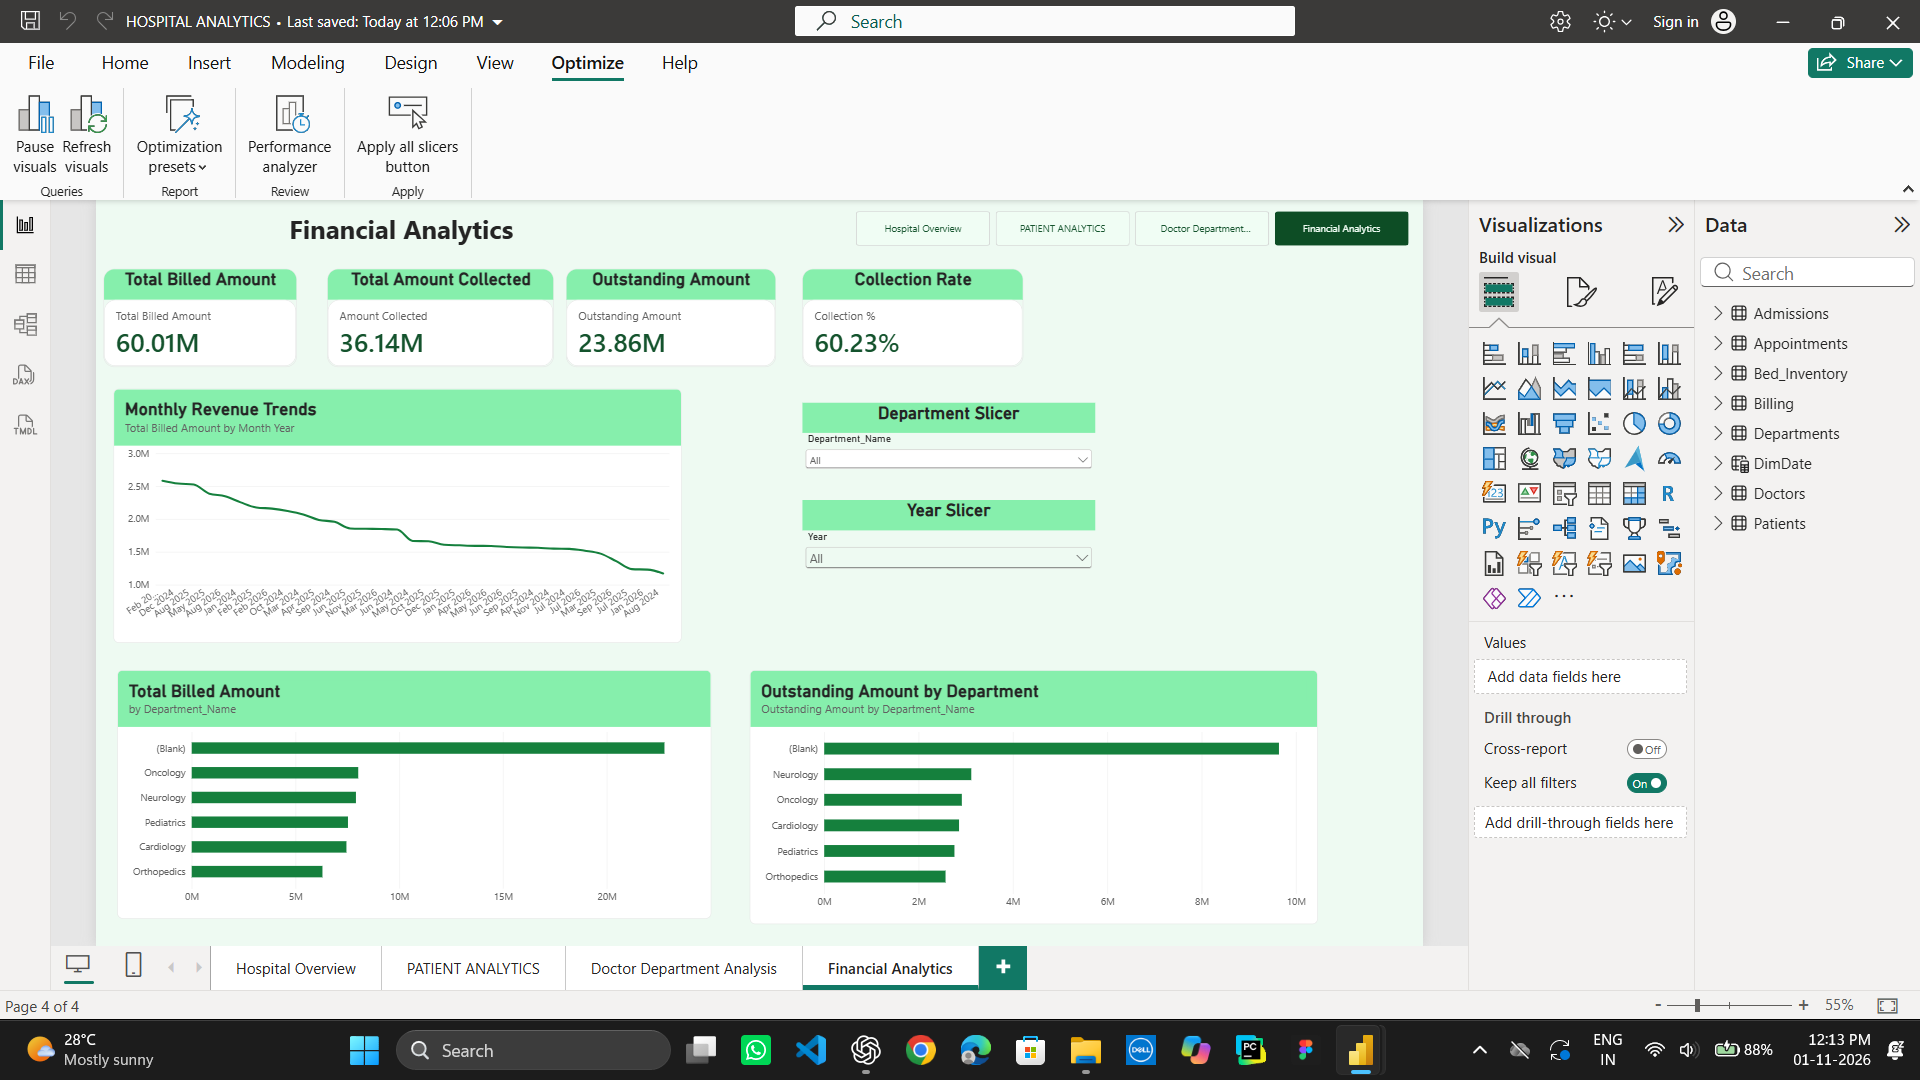

The page's visual inventory and layout, read from the dashboard file:
{"tool":"powerbi","page":{"name":"Financial Analytics","canvas":[1920,1080],"ordinal":3},"visuals":[{"type":"cardVisual","title":"Total Billed Amount","fields":{"Data":["Billing.Total Billed Amount"]},"box":[10,100,280,142],"z":0},{"type":"cardVisual","title":"Total Amount Collected","fields":{"Data":["Billing.Amount Collected"]},"box":[334,100,328,142],"z":1000},{"type":"cardVisual","title":"Outstanding Amount","fields":{"Data":["Billing.Outstanding Amount"]},"box":[680,100,304,142],"z":2000},{"type":"cardVisual","title":"Collection Rate","fields":{"Data":["Billing.Collection %"]},"box":[1022,100,320,142],"z":3000},{"type":"lineChart","title":"Monthly Revenue Trends","fields":{"Category":["DimDate.Month Year"],"Y":["Billing.Total Billed Amount"]},"box":[26,274,822,368],"z":4000},{"type":"clusteredBarChart","fields":{"Category":["Departments.Department_Name"],"Y":["Billing.Total Billed Amount"]},"box":[30,680,860,360],"z":4001},{"type":"clusteredBarChart","title":"Outstanding Amount by Department","fields":{"Category":["Departments.Department_Name"],"Y":["Billing.Outstanding Amount"]},"box":[946,680,822,368],"z":4002},{"type":"slicer","title":"Department Slicer","fields":{"Values":["Departments.Department_Name"]},"box":[1022,294,424,138],"z":4003},{"type":"slicer","title":"Year Slicer","fields":{"Values":["DimDate.Year"]},"box":[1022,434,424,106],"z":4004},{"type":"textbox","box":[10,16,862,70],"z":4005},{"type":"pageNavigator","box":[1100,16,800,50],"z":4006}]}

Visuals, with their boxes on the page's 1920x1080 design canvas (x1, y1, x2, y2). These are canvas units, not pixel positions in the 1920x1080 screenshot, which may show the page scaled, cropped or inside an application window:
"Total Billed Amount" cardVisual: 10/100/290/242
"Total Amount Collected" cardVisual: 334/100/662/242
"Outstanding Amount" cardVisual: 680/100/984/242
"Collection Rate" cardVisual: 1022/100/1342/242
"Monthly Revenue Trends" lineChart: 26/274/848/642
clusteredBarChart - Departments.Department_Name x Billing.Total Billed Amount: 30/680/890/1040
"Outstanding Amount by Department" clusteredBarChart: 946/680/1768/1048
"Department Slicer" slicer: 1022/294/1446/432
"Year Slicer" slicer: 1022/434/1446/540
textbox: 10/16/872/86
pageNavigator: 1100/16/1900/66
